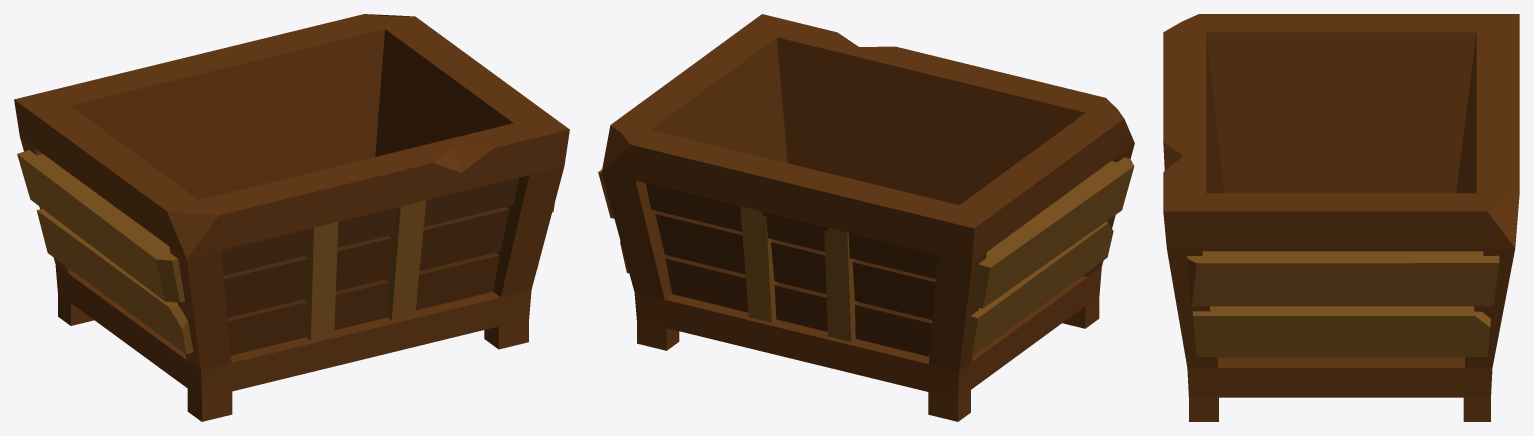
Rendered from SM_Crate.fbx.
3 views of the same model, side by side, from view 1: azimuth 30°, elevation 25°; view 2: azimuth 150°, elevation 25°; view 3: azimuth 270°, elevation 25° (orthographic). The views are drawn at different scales.
Visible parts, largest first — view 1: SM_Crate; view 2: SM_Crate; view 3: SM_Crate.
Part boxes in pixels (x1,y1,x2,y2): SM_Crate: (14,14,569,421); SM_Crate: (598,14,1134,421); SM_Crate: (1163,14,1519,421).
Size of the model in its own units: 76.41 by 38.81 by 55.7.
